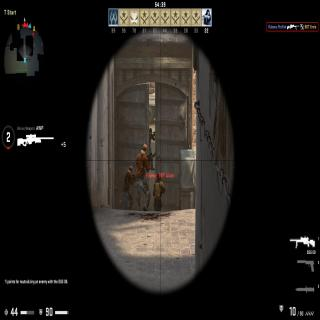T-Body: (134, 148, 150, 208), (122, 164, 134, 211), (152, 174, 166, 212), (149, 127, 155, 171)
T-Head: (142, 144, 148, 154), (128, 164, 132, 174), (157, 175, 161, 184), (149, 128, 152, 135)
